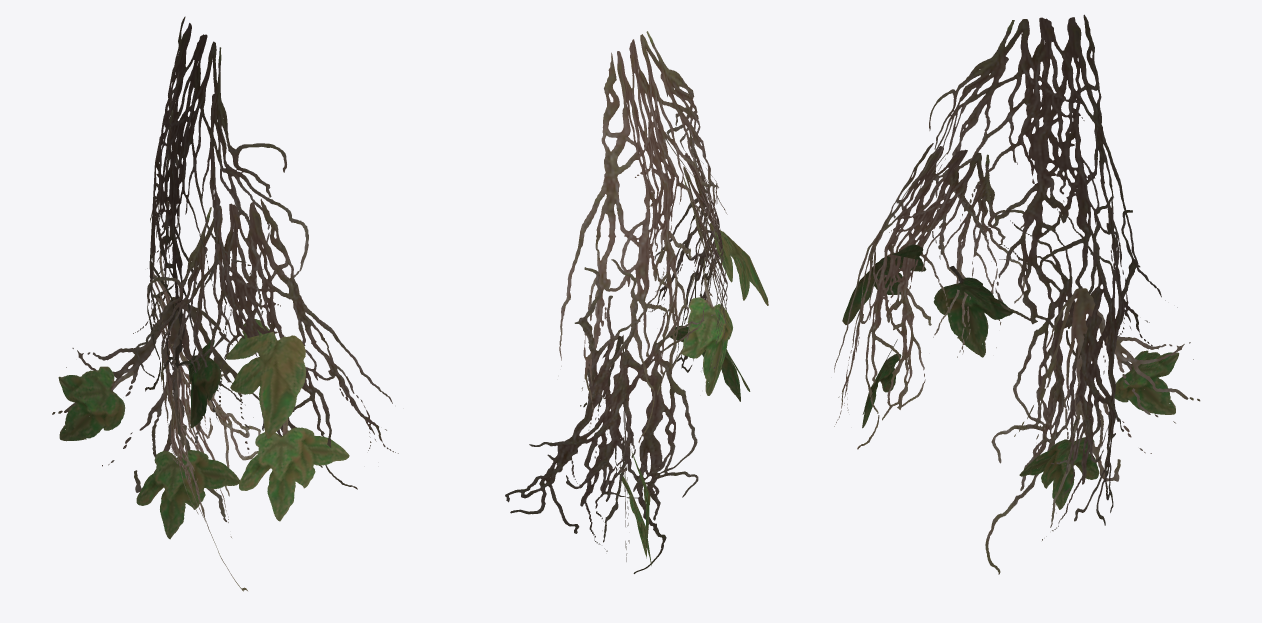
Rendered from SM_Fol_Ivy_Hanging4.fbx.
The picture shows the model from 3 angles, left to right: view 1: azimuth 30°, elevation 25°; view 2: azimuth 150°, elevation 25°; view 3: azimuth 270°, elevation 25°; orthographic projection.
Visible parts, largest first — view 1: SM_Fol_Ivy_Hanging4_LOD0; view 2: SM_Fol_Ivy_Hanging4_LOD0; view 3: SM_Fol_Ivy_Hanging4_LOD0.
Part boxes in pixels (x1,y1,x2,y2): SM_Fol_Ivy_Hanging4_LOD0: (52, 16, 398, 591); SM_Fol_Ivy_Hanging4_LOD0: (505, 31, 768, 573); SM_Fol_Ivy_Hanging4_LOD0: (834, 14, 1200, 574).
Bounding box in the file's own units: 56.72 × 93.04 × 130.
1 material, 1 textured.
